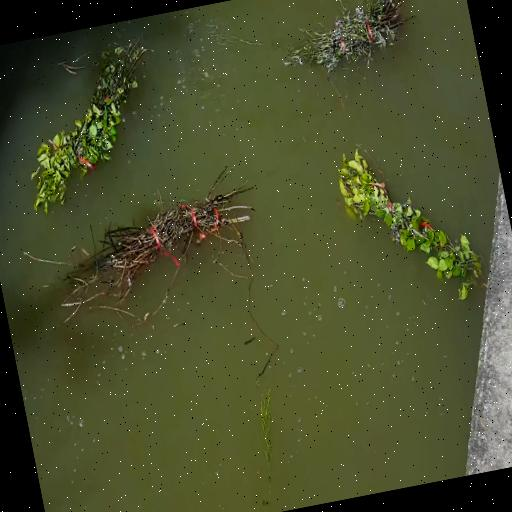twig: (63, 167, 253, 319), (31, 41, 148, 211), (338, 151, 481, 278), (285, 0, 408, 73)
